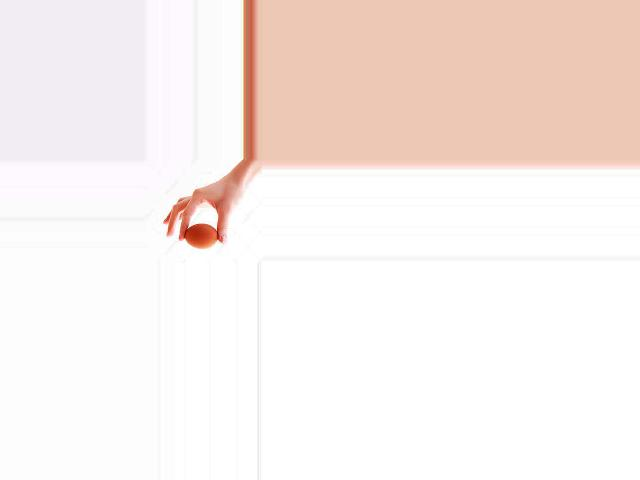egg: (184, 224, 218, 249)
